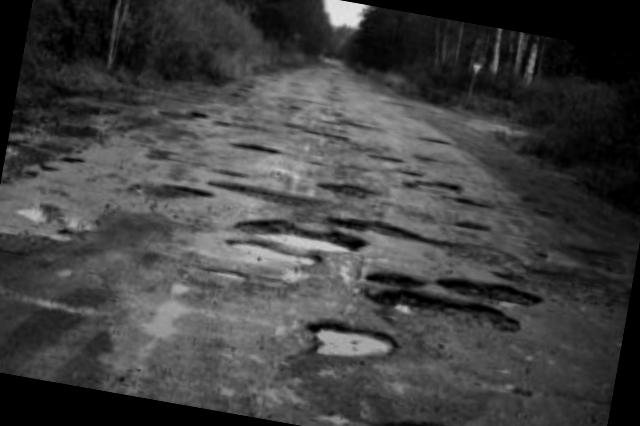Pothole: (358, 258, 547, 348), (228, 212, 371, 286), (298, 310, 416, 380), (322, 202, 456, 256), (204, 174, 317, 215), (398, 174, 504, 215), (362, 395, 480, 426), (120, 178, 212, 212), (288, 117, 357, 152), (226, 130, 285, 164), (164, 97, 211, 128), (323, 176, 370, 202), (360, 150, 415, 168), (449, 220, 500, 238), (328, 112, 368, 133), (415, 136, 459, 150)
